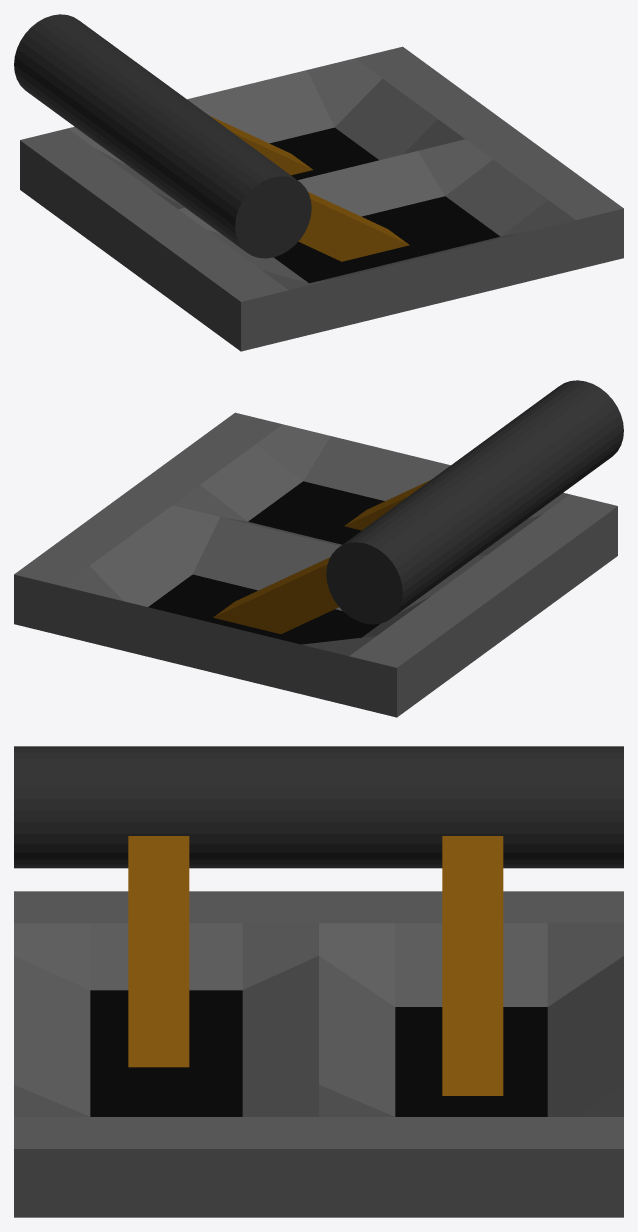
Rendered from palanca.glb.
3 views of the same model, one above another, from view 1: azimuth 30°, elevation 25°; view 2: azimuth 150°, elevation 25°; view 3: azimuth 270°, elevation 25° (orthographic). The views are drawn at different scales.
Visible parts, largest first — view 1: Cube, Cylinder, Cube.001, Cube.002; view 2: Cube, Cylinder, Cube.002, Cube.001; view 3: Cube, Cylinder, Cube.002, Cube.001.
Part boxes in pixels (box(x1,y1,x2,y2)): Cube: box(20, 46, 623, 351); Cylinder: box(14, 14, 311, 258); Cube.001: box(298, 192, 409, 261); Cube.002: box(209, 115, 312, 175); Cube: box(14, 412, 617, 717); Cylinder: box(326, 380, 623, 624); Cube.002: box(213, 557, 338, 634); Cube.001: box(344, 480, 430, 530); Cube: box(14, 891, 623, 1217); Cylinder: box(14, 746, 623, 868); Cube.002: box(442, 836, 503, 1095); Cube.001: box(128, 836, 189, 1067).
Size of the model in its own units: 2.03 by 0.9786 by 2.
